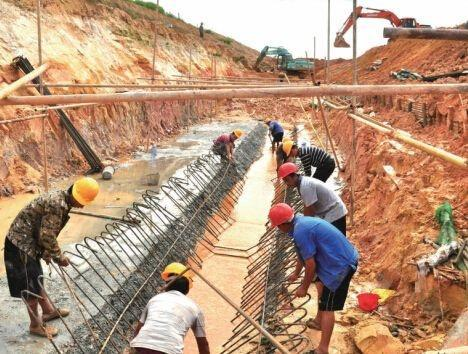helmet: (67, 176, 99, 210), (268, 202, 299, 233), (275, 162, 300, 184)
no-vest: (10, 188, 66, 268), (294, 218, 354, 291)
person: (7, 174, 101, 335), (265, 202, 350, 354)
